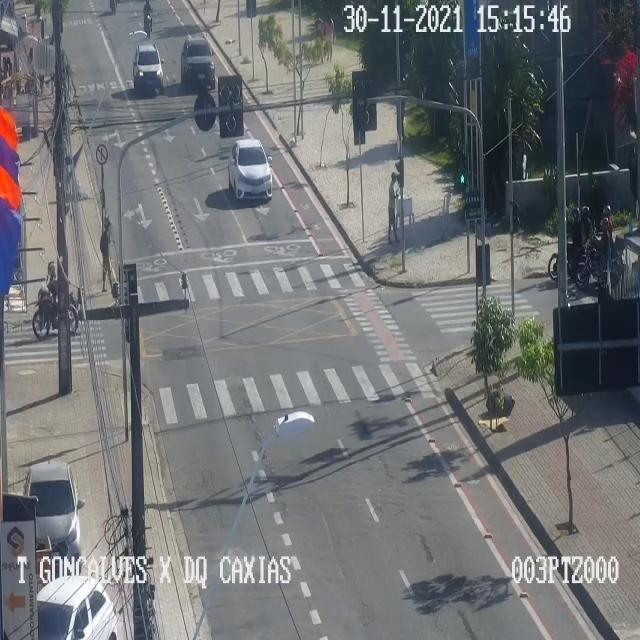Car: (24, 462, 80, 572), (37, 575, 117, 639), (228, 139, 272, 198), (180, 37, 214, 88), (132, 44, 162, 92)
Motorcycle: (32, 261, 78, 339), (576, 205, 622, 282), (575, 218, 619, 289), (548, 207, 590, 279), (143, 2, 153, 39)
